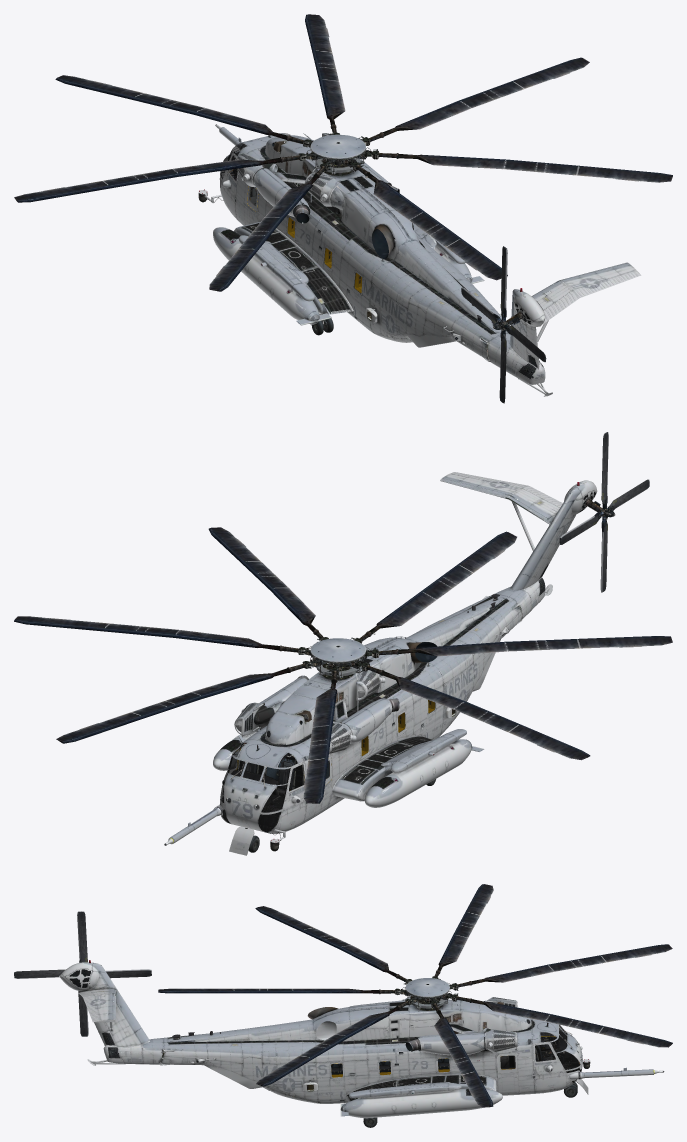
Rendered from sikorsky_ch-53e_sea_stallion.glb.
3 renders of one model, top to bottom at view 1: azimuth 30°, elevation 25°; view 2: azimuth 150°, elevation 25°; view 3: azimuth 270°, elevation 25°, orthographic. The views are drawn at different scales.
Visible parts, largest first — view 1: Object_11, Object_6, Object_18, Object_16, Object_9, Object_19, Object_26; view 2: Object_11, Object_9, Object_18, Object_16, Object_6, Object_26, Object_19, Object_20, Object_8; view 3: Object_11, Object_6, Object_16, Object_18, Object_9, Object_19, Object_26, Object_8, Object_17, Object_2.
Boxes of the visible parts, box(x1,y1,x2,y2) form: Object_11: box(14, 14, 672, 291); Object_6: box(213, 135, 552, 396); Object_18: box(215, 124, 542, 369); Object_16: box(198, 133, 513, 361); Object_9: box(220, 133, 641, 369); Object_19: box(461, 246, 546, 403); Object_26: box(219, 144, 362, 293); Object_11: box(14, 527, 672, 803); Object_9: box(220, 472, 602, 830); Object_18: box(164, 577, 541, 845); Object_16: box(219, 596, 522, 851); Object_6: box(213, 578, 552, 807); Object_26: box(220, 700, 435, 833); Object_19: box(229, 432, 649, 855); Object_20: box(222, 742, 304, 830); Object_8: box(230, 700, 435, 814); Object_11: box(158, 884, 672, 1107); Object_6: box(87, 1019, 548, 1118); Object_16: box(159, 1000, 590, 1102); Object_18: box(105, 999, 664, 1098); Object_9: box(59, 960, 582, 1081); Object_19: box(14, 911, 588, 1094); Object_26: box(331, 1024, 581, 1082); Object_8: box(263, 1035, 555, 1088); Object_17: box(533, 1042, 564, 1073); Object_2: box(535, 1036, 577, 1072).
Bounding box in the file's own units: 24.74 × 9.01 × 30.88.
Materials: 20 (18 with a texture image).
